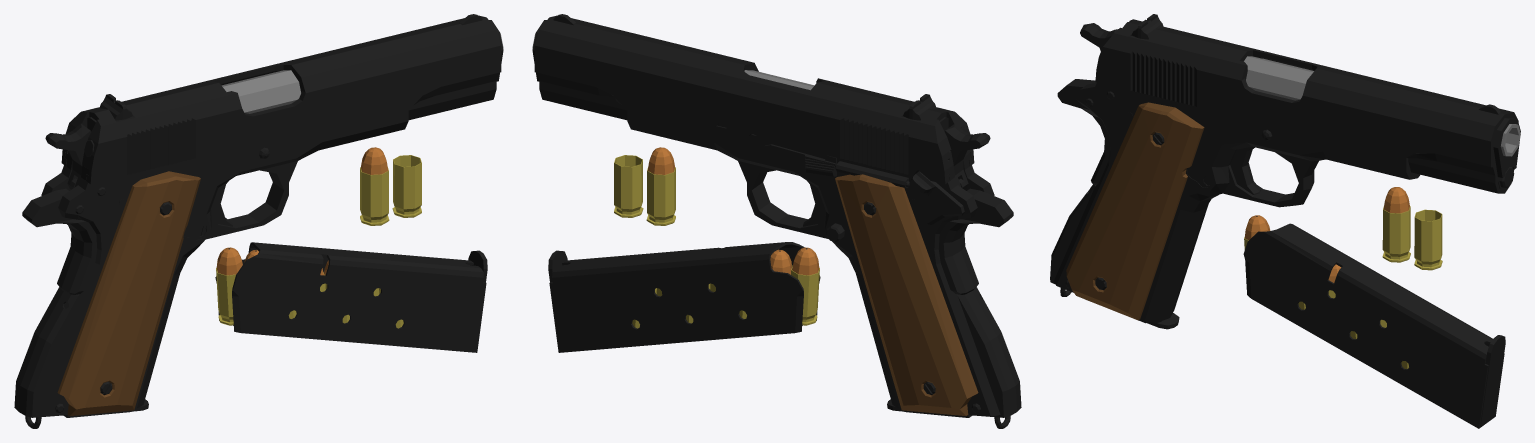
3 renders of one model, left to right at view 1: azimuth 30°, elevation 25°; view 2: azimuth 150°, elevation 25°; view 3: azimuth 330°, elevation 25°, orthographic. The views are drawn at different scales.
Visible parts, largest first — view 1: colt1911 frame_4, colt1911 slide_5, 45acp colt1911 7rnd mag_1, colt1911 grip safety_8, colt1911 barrel 5in_6, .45 acp_3, 45acp_2, colt1911 hammer_7; view 2: colt1911 frame_4, colt1911 slide_5, 45acp colt1911 7rnd mag_1, colt1911 grip safety_8, .45 acp_3, 45acp_2, colt1911 safety_11, colt1911 bolt release_10, colt1911 hammer_7; view 3: colt1911 frame_4, colt1911 slide_5, 45acp colt1911 7rnd mag_1, colt1911 barrel 5in_6, .45 acp_3, 45acp_2, colt1911 grip safety_8, colt1911 trigga_9, colt1911 hammer_7.
Boxes of the visible parts, left/top/right/bottom form: colt1911 frame_4: left=14, top=107, right=408, bottom=428; colt1911 slide_5: left=61, top=14, right=503, bottom=184; 45acp colt1911 7rnd mag_1: left=215, top=242, right=487, bottom=352; colt1911 grip safety_8: left=22, top=188, right=97, bottom=294; colt1911 barrel 5in_6: left=221, top=33, right=503, bottom=113; .45 acp_3: left=360, top=147, right=389, bottom=225; 45acp_2: left=392, top=155, right=421, bottom=217; colt1911 hammer_7: left=45, top=123, right=105, bottom=195; colt1911 frame_4: left=627, top=107, right=1021, bottom=428; colt1911 slide_5: left=532, top=14, right=974, bottom=184; 45acp colt1911 7rnd mag_1: left=548, top=242, right=820, bottom=352; colt1911 grip safety_8: left=938, top=188, right=1013, bottom=294; .45 acp_3: left=646, top=147, right=675, bottom=225; 45acp_2: left=614, top=155, right=643, bottom=217; colt1911 safety_11: left=910, top=171, right=964, bottom=224; colt1911 bolt release_10: left=762, top=144, right=836, bottom=176; colt1911 hammer_7: left=944, top=123, right=990, bottom=189; colt1911 frame_4: left=1050, top=80, right=1420, bottom=322; colt1911 slide_5: left=1095, top=14, right=1520, bottom=193; 45acp colt1911 7rnd mag_1: left=1243, top=215, right=1505, bottom=428; colt1911 barrel 5in_6: left=1244, top=56, right=1520, bottom=156; .45 acp_3: left=1382, top=187, right=1410, bottom=262; 45acp_2: left=1414, top=209, right=1442, bottom=270; colt1911 grip safety_8: left=1057, top=79, right=1109, bottom=185; colt1911 trigga_9: left=1230, top=146, right=1260, bottom=194; colt1911 hammer_7: left=1080, top=23, right=1118, bottom=99.
Size of the model in its own units: 2.21 by 1.48 by 0.3268.
